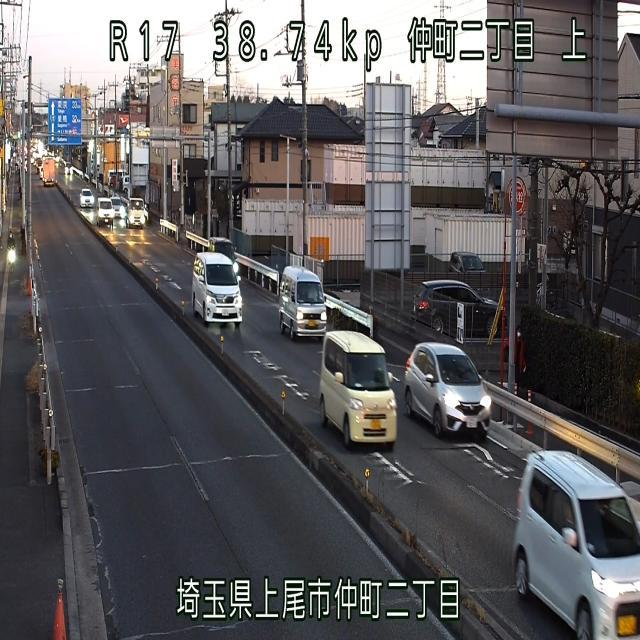Ad-signs: (47, 97, 82, 145)
Car: (402, 340, 492, 439), (410, 278, 502, 339)
MiniBus: (512, 449, 639, 639), (318, 329, 398, 448), (190, 250, 243, 325), (277, 265, 327, 340)
